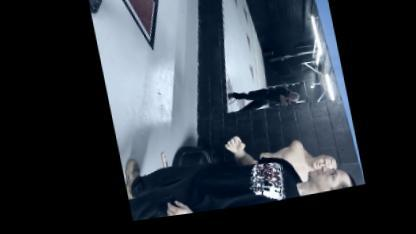pistol: (264, 0, 280, 5)
